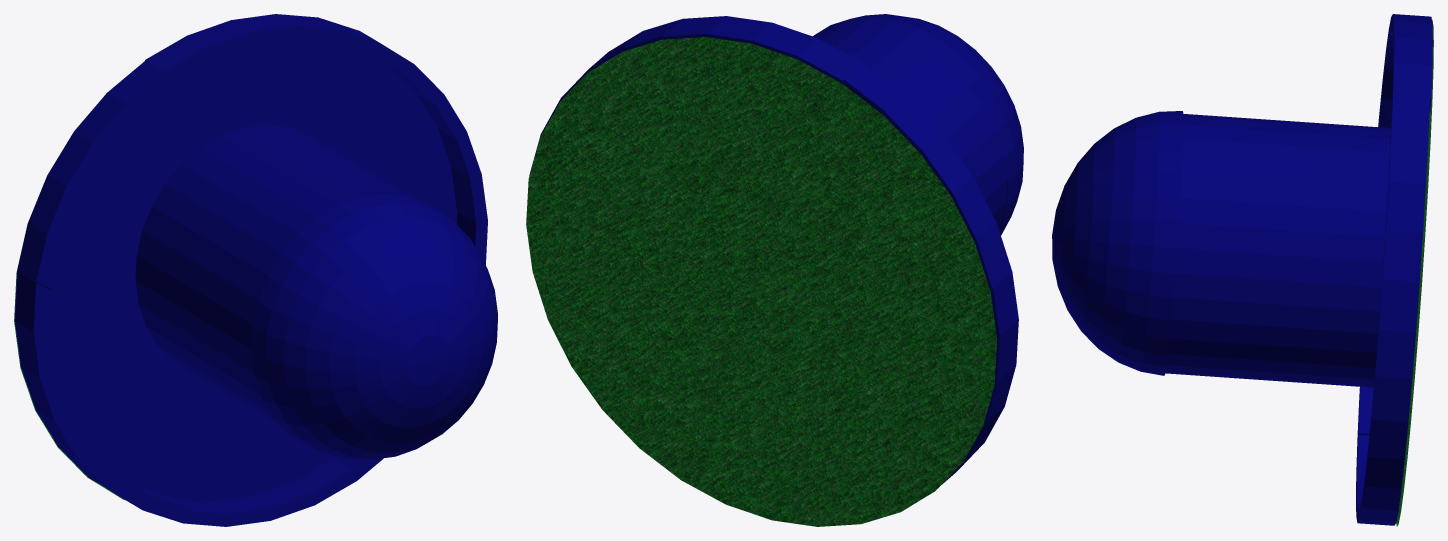
The model's file is mailletFinal2.obj.
3 views of the same model, side by side, from view 1: azimuth 30°, elevation 25°; view 2: azimuth 150°, elevation 25°; view 3: azimuth 270°, elevation 25° (orthographic). The views are drawn at different scales.
Parts seen in each view (by area): view 1: Cylinder; view 2: Cylinder; view 3: Cylinder.
Part boxes in pixels (bbox=[...]): Cylinder: bbox=[14, 14, 497, 526]; Cylinder: bbox=[526, 14, 1023, 526]; Cylinder: bbox=[1052, 14, 1433, 526].
Size of the model in its own units: 3.14 by 3.16 by 2.34.
Materials: 2 (1 with a texture image).
